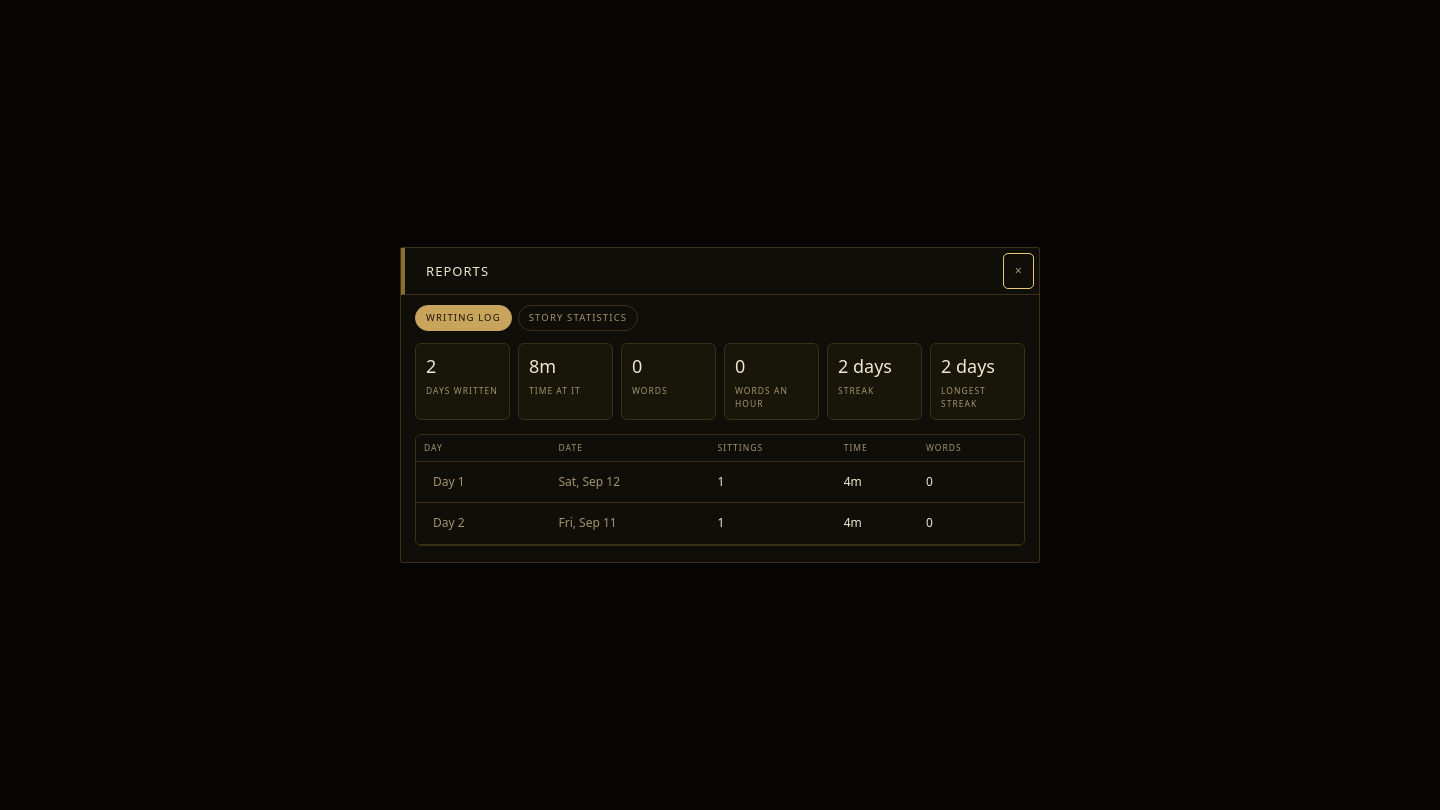
Test: the writing log › opens a day to the sittings inside it, with the hours they ran
The width and height of the screenshot is (1440, 810).
Click the button with class "report-day" showing "Day 1" at (449, 482), box x1=424 y1=468 x2=474 y2=496
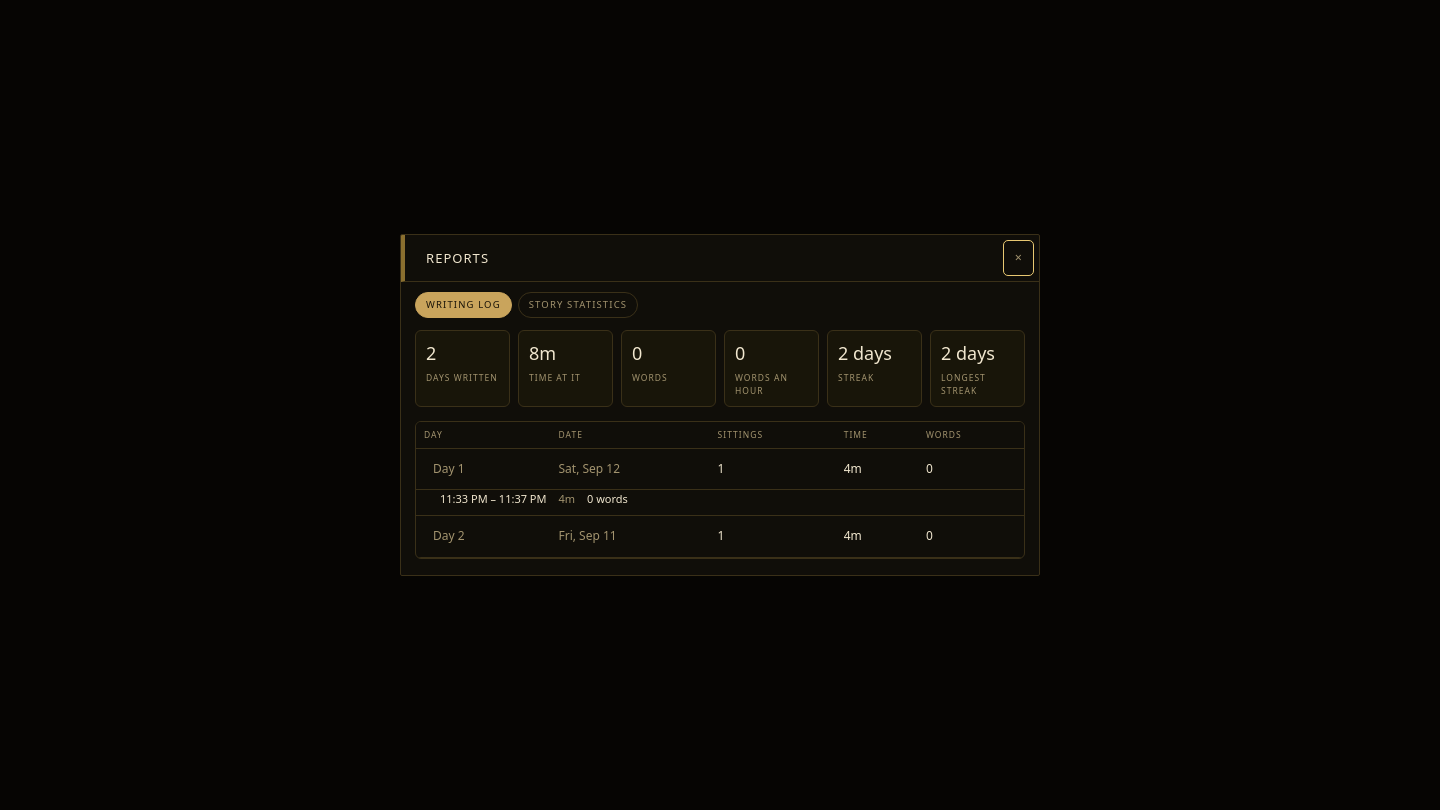
Result: the row with class "report-sittings" reads "11:33 PM – 11:37 PM 4m 0 words" at x1=416 y1=490 x2=1024 y2=516
Result: the row with class "report-sittings" shows "4m" at x1=558 y1=491 x2=575 y2=506
